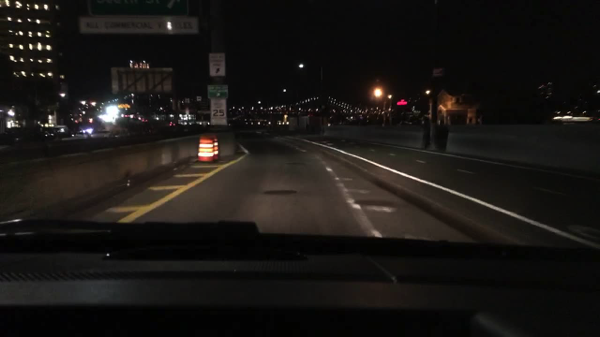car: (5, 131, 25, 144), (53, 125, 71, 138), (78, 125, 96, 135), (40, 129, 52, 140), (104, 115, 118, 123), (141, 118, 148, 124), (169, 120, 176, 126), (124, 114, 129, 118)
traffic sign: (76, 1, 198, 37), (110, 67, 171, 94), (210, 100, 227, 125), (208, 53, 226, 76), (207, 86, 228, 99), (433, 67, 442, 77), (197, 97, 201, 102)
